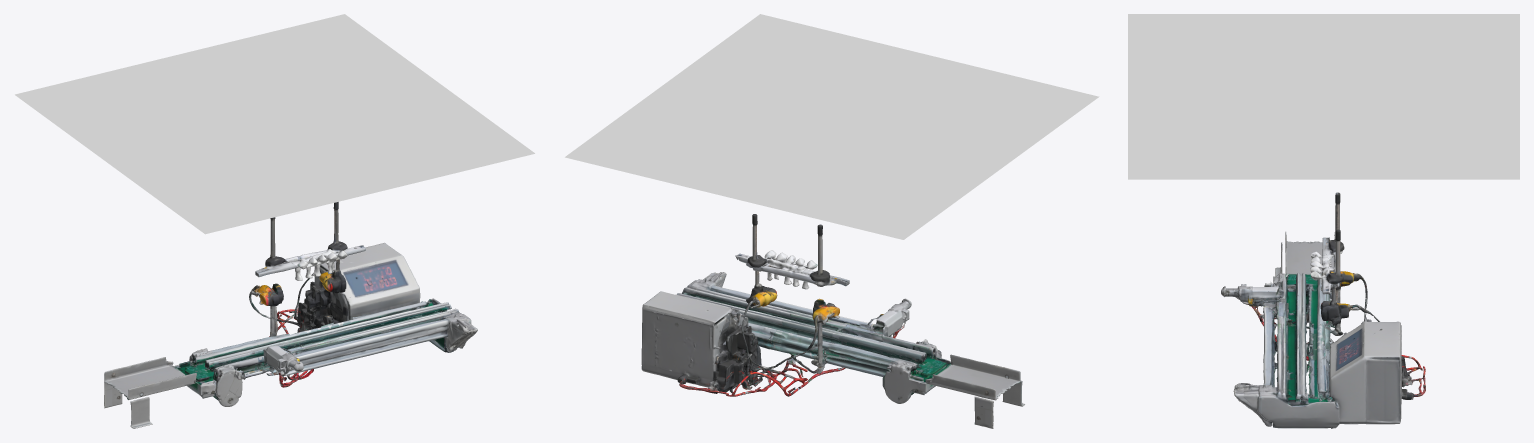
Rendered from filler-label.glb.
3 views of the same model, side by side, from view 1: azimuth 30°, elevation 25°; view 2: azimuth 150°, elevation 25°; view 3: azimuth 270°, elevation 25° (orthographic). The views are drawn at different scales.
Parts seen in each view (by area): view 1: Cube.001, conveyor2, filler2.001; view 2: Cube.001, conveyor2; view 3: Cube.001, conveyor2.
Part boxes in pixels (x1,y1,x2,y2): Cube.001: [15, 14, 534, 234]; conveyor2: [104, 202, 477, 428]; filler2.001: [251, 283, 283, 336]; Cube.001: [565, 14, 1099, 239]; conveyor2: [641, 214, 1024, 428]; Cube.001: [1128, 14, 1519, 179]; conveyor2: [1221, 192, 1425, 428].
Size of the model in its own units: 2 by 1.45 by 2.
Materials: 1 (1 with a texture image).
